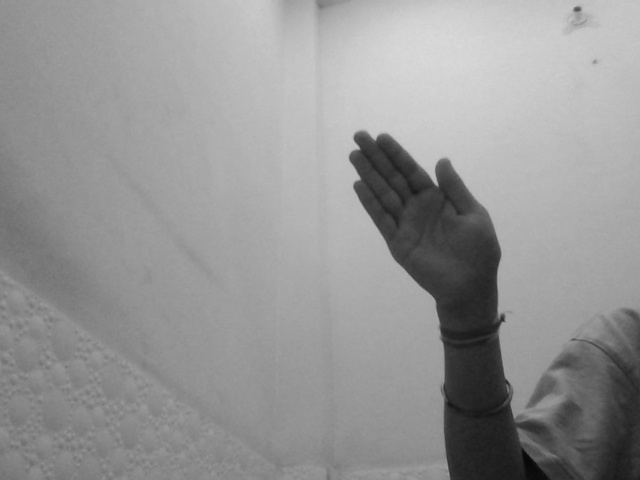Hello: (341, 131, 507, 314)
